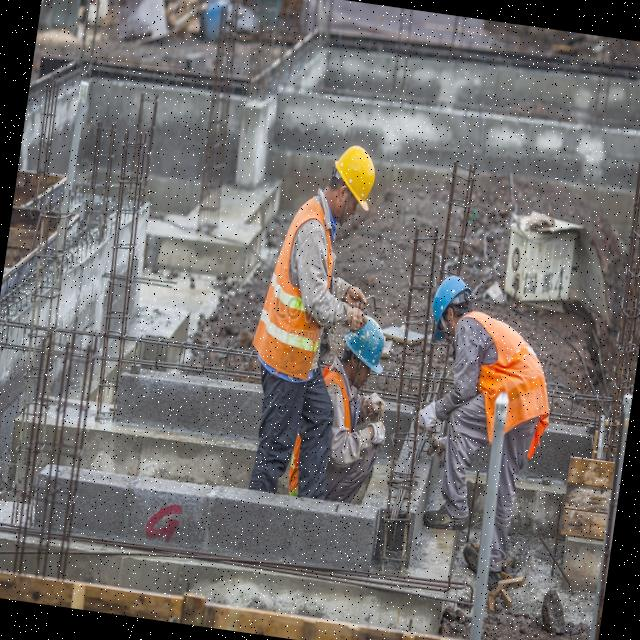Helmet: (328, 144, 381, 215), (338, 314, 392, 381), (428, 274, 476, 345)
Jacket: (270, 200, 343, 379), (446, 313, 548, 423)
